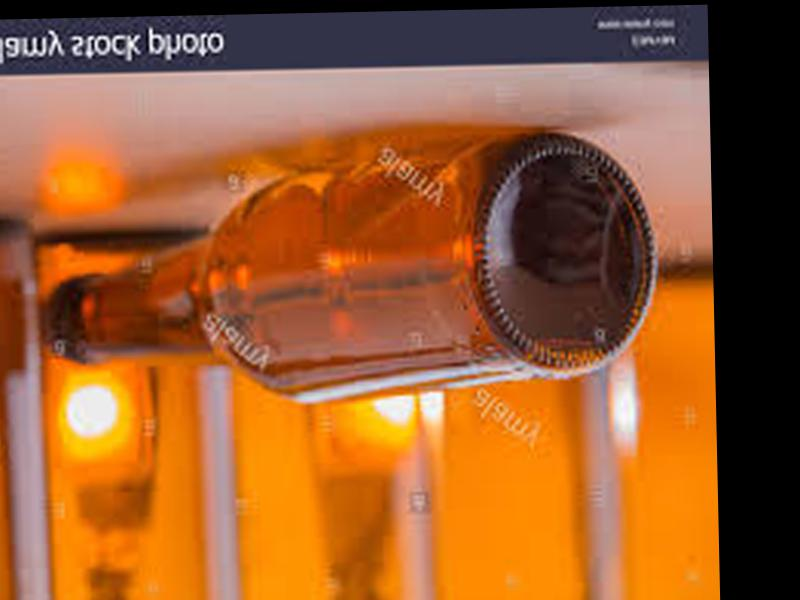Beer: (47, 117, 661, 411)
